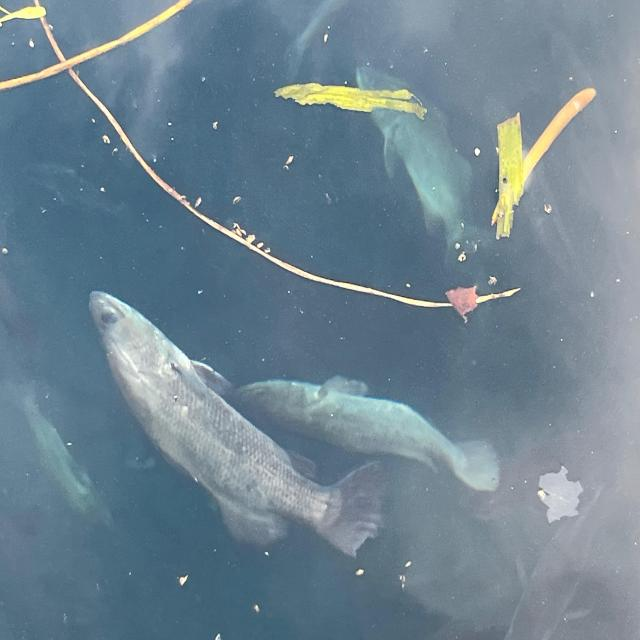ikan: (87, 289, 389, 559), (191, 358, 501, 494)
